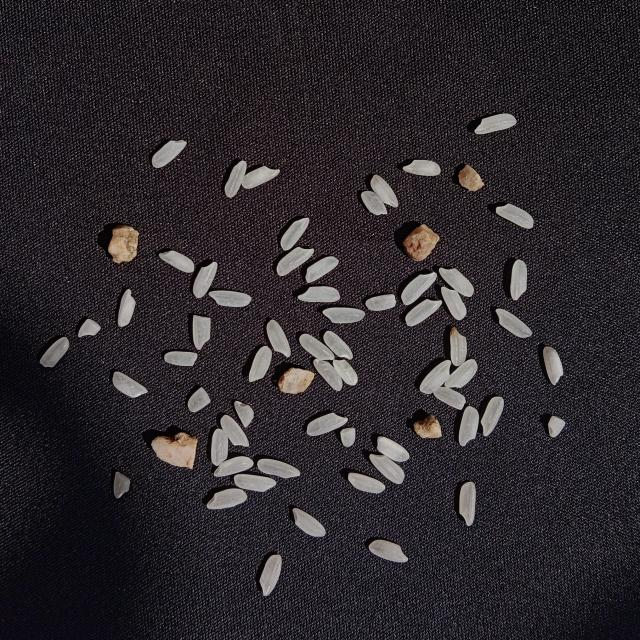Broken: (39, 336, 70, 368), (112, 372, 148, 398), (434, 387, 466, 410), (192, 315, 212, 351), (413, 415, 442, 439), (361, 191, 388, 216), (188, 387, 212, 412), (365, 294, 397, 312), (235, 400, 254, 427), (164, 351, 198, 366), (113, 471, 131, 499), (77, 318, 102, 338), (548, 416, 566, 438), (340, 428, 356, 448)
Full: (401, 273, 437, 305), (276, 247, 314, 277), (419, 360, 452, 394), (369, 454, 405, 485), (496, 308, 533, 338), (496, 203, 535, 230), (306, 412, 348, 437), (280, 218, 310, 252), (266, 319, 292, 358), (299, 333, 335, 361), (406, 298, 442, 326), (259, 554, 283, 596), (248, 344, 274, 382), (292, 508, 326, 537), (370, 174, 399, 208), (480, 397, 504, 438), (152, 140, 187, 168), (439, 268, 474, 296), (441, 286, 468, 322), (220, 415, 250, 447), (314, 358, 343, 391), (193, 261, 218, 299), (474, 113, 517, 135), (241, 165, 280, 189), (445, 359, 477, 388), (305, 256, 339, 283), (214, 456, 256, 477), (206, 488, 248, 509), (369, 540, 409, 562), (258, 458, 302, 478), (458, 406, 480, 446), (224, 160, 247, 198), (323, 330, 352, 360), (376, 436, 409, 462), (459, 481, 478, 526), (159, 250, 195, 273), (234, 473, 277, 492), (543, 346, 563, 386), (348, 472, 386, 493), (208, 290, 252, 308), (510, 259, 528, 301), (323, 307, 365, 324), (118, 288, 136, 327), (210, 428, 228, 467), (332, 360, 358, 386), (298, 286, 340, 302), (450, 327, 467, 366), (403, 160, 441, 177)
